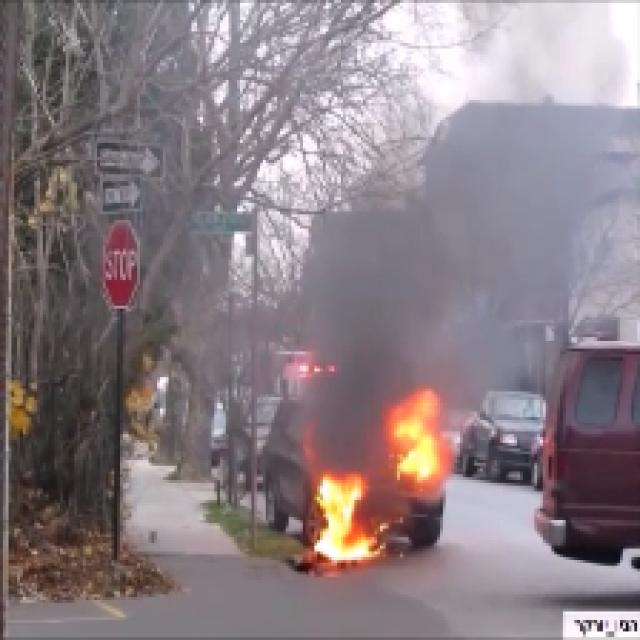fire: (315, 467, 368, 560), (393, 408, 439, 482)
smoke: (313, 213, 505, 381), (306, 384, 386, 458)
